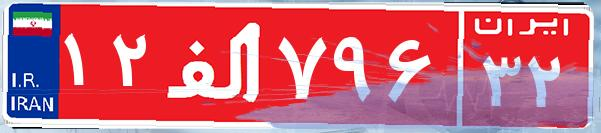1: (57, 26, 110, 107)
2: (110, 28, 158, 105), (525, 38, 570, 115)
3: (475, 38, 525, 113)
6: (385, 28, 445, 110)
7: (273, 28, 330, 110)
9: (330, 28, 385, 110)
الف: (158, 15, 273, 115)
